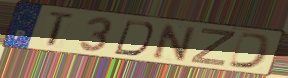3: (78, 15, 114, 53)
D: (226, 31, 275, 71), (111, 19, 155, 58)
N: (151, 22, 198, 63)
T: (46, 10, 78, 48)
Z: (188, 27, 238, 68)
